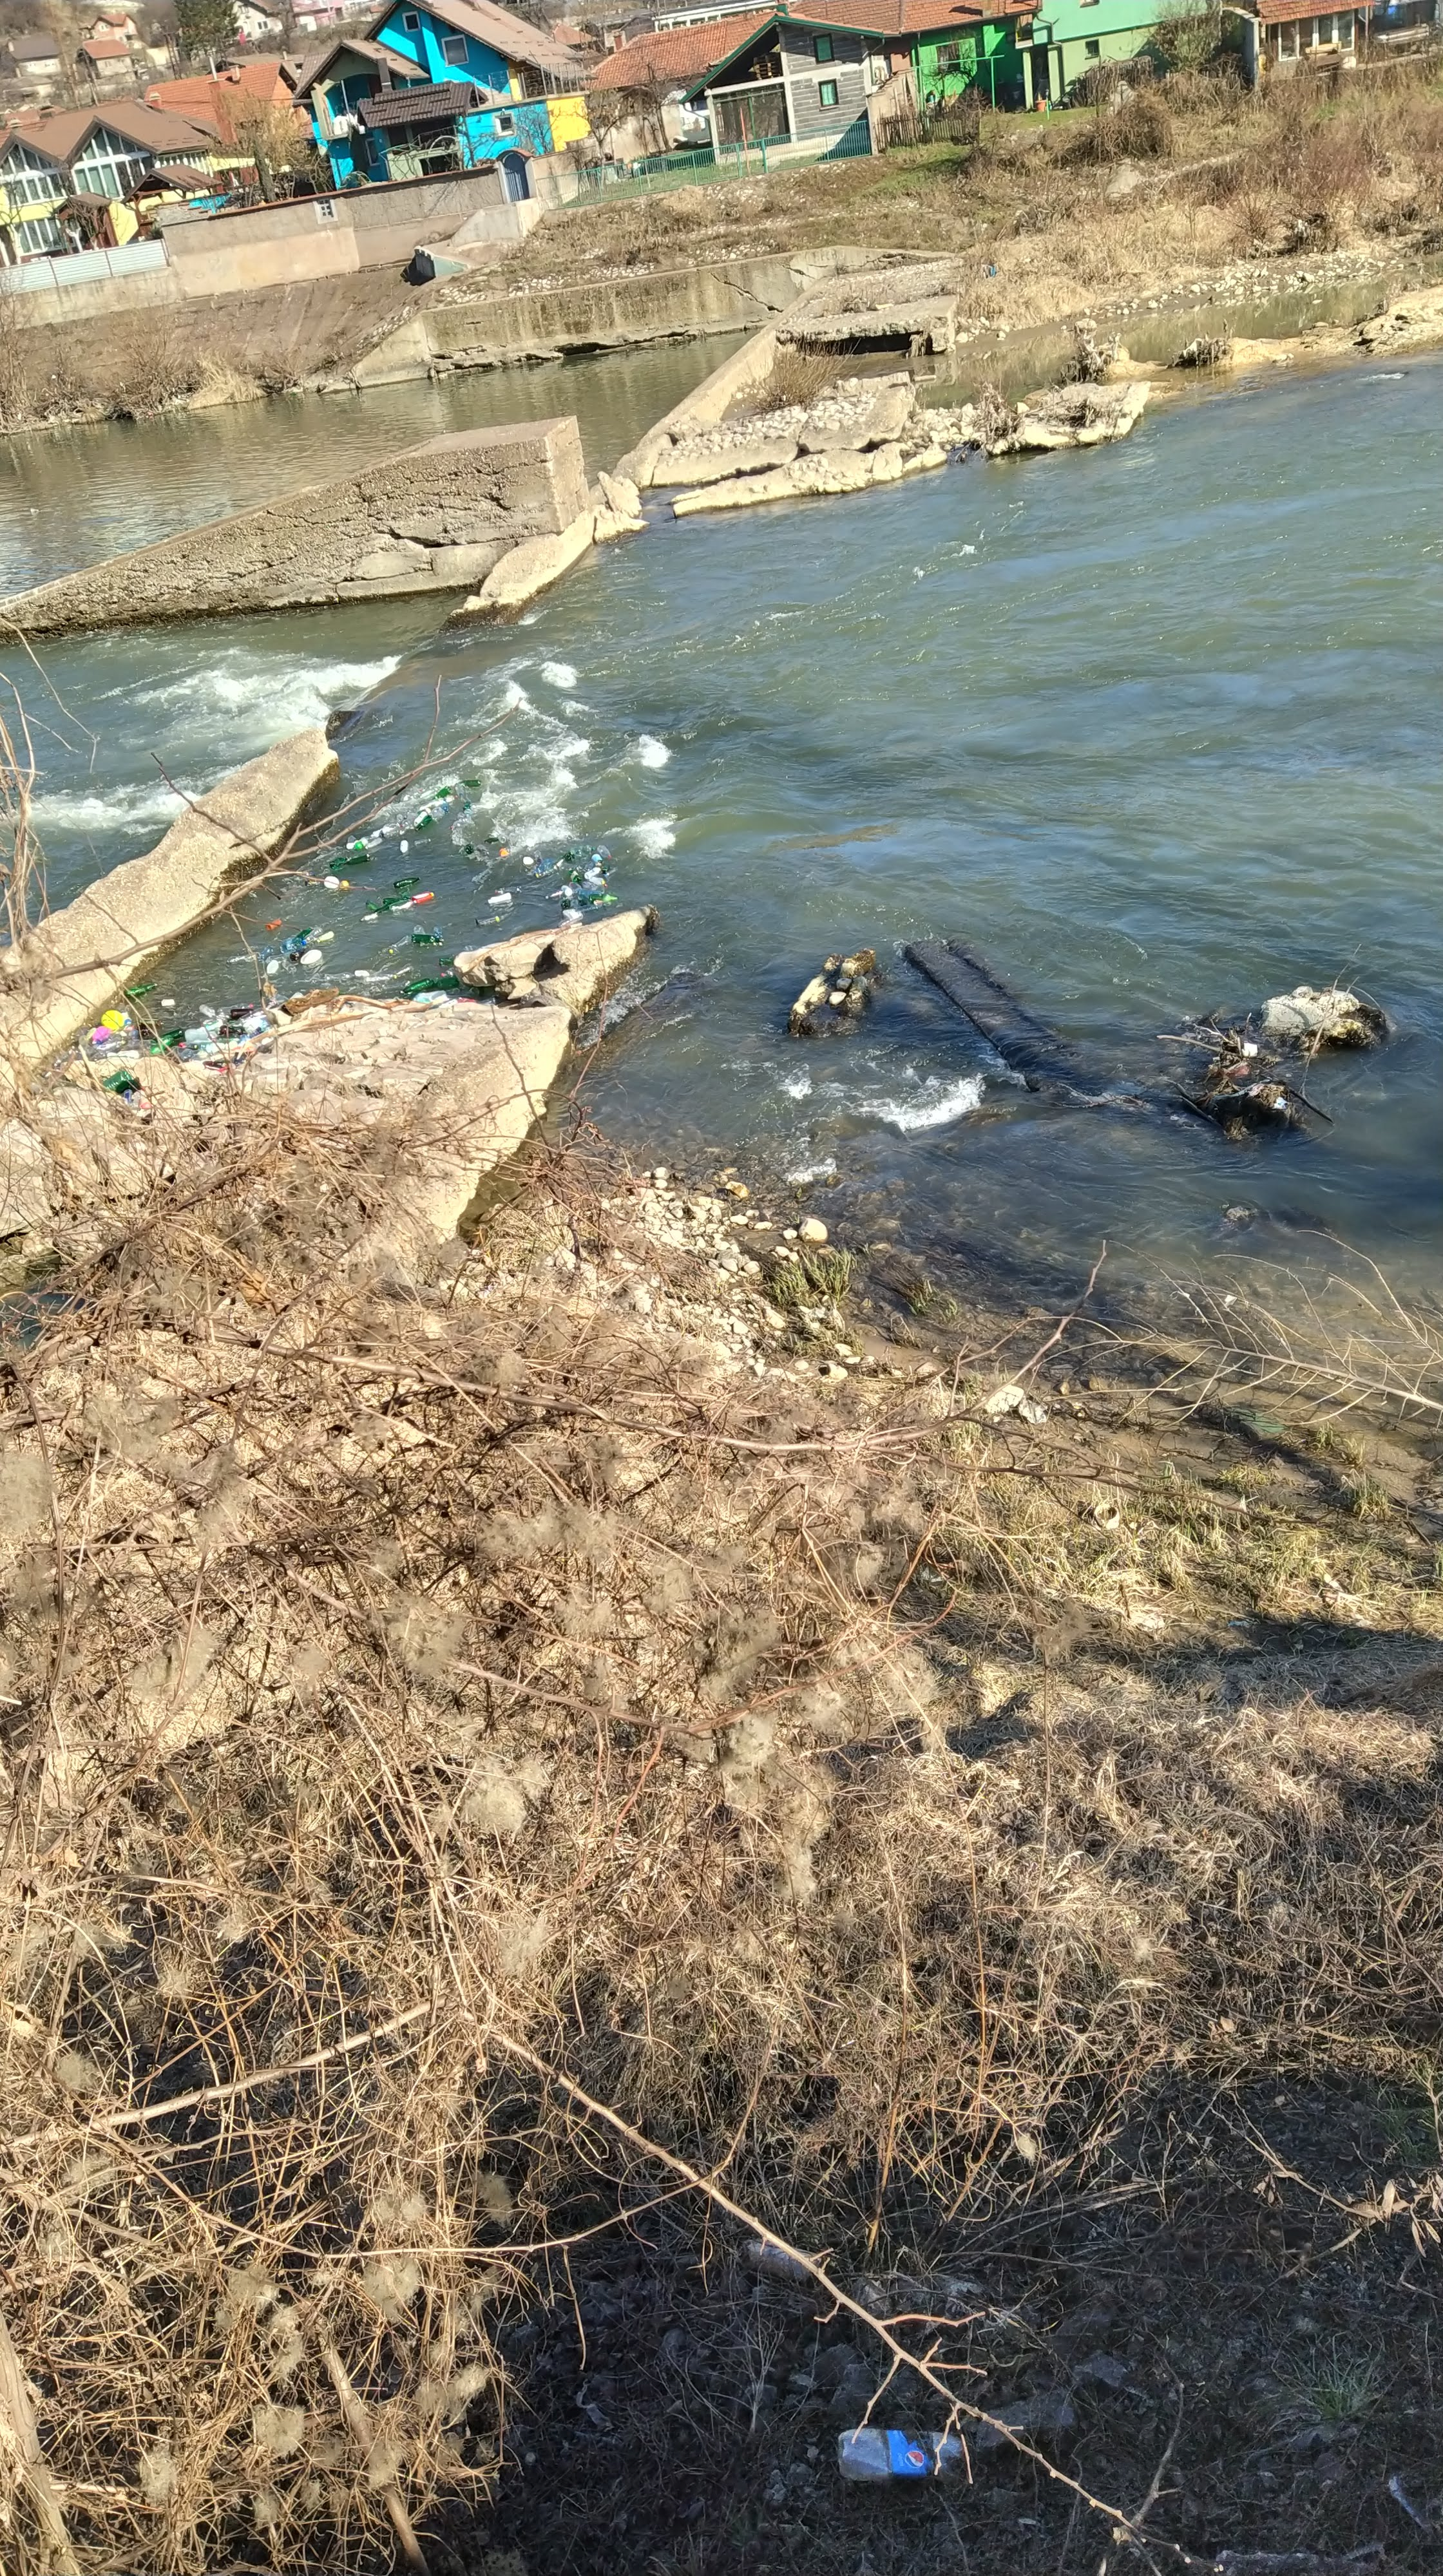Plastic Bottle: (122, 982, 159, 1000), (216, 1003, 253, 1017), (400, 978, 436, 993), (92, 1046, 124, 1060), (388, 934, 411, 954), (558, 911, 583, 929), (150, 1035, 174, 1053), (235, 1008, 264, 1023), (227, 952, 259, 964), (301, 929, 326, 943), (97, 1039, 126, 1051), (365, 973, 395, 984), (381, 980, 411, 991), (414, 989, 444, 1000), (324, 971, 352, 982), (170, 1046, 191, 1060), (395, 964, 413, 980), (414, 816, 432, 832), (579, 888, 606, 899), (127, 1039, 158, 1047), (388, 901, 413, 911), (487, 892, 512, 902), (583, 881, 604, 893), (570, 844, 595, 855), (411, 934, 439, 943), (494, 885, 522, 893), (198, 1003, 216, 1017), (413, 892, 436, 902), (347, 855, 370, 865), (159, 1028, 182, 1039), (184, 1028, 207, 1039), (347, 837, 367, 849), (204, 1017, 223, 1030), (393, 878, 420, 886), (266, 916, 282, 931), (450, 819, 471, 830), (584, 867, 600, 881), (267, 952, 292, 961), (359, 911, 377, 924), (329, 856, 347, 869), (476, 916, 501, 925), (220, 1026, 244, 1035), (436, 977, 459, 985), (590, 895, 618, 902), (568, 881, 583, 895), (568, 869, 583, 883), (436, 786, 451, 798), (136, 1023, 152, 1035), (365, 839, 382, 849), (232, 1008, 253, 1017), (205, 1042, 227, 1051), (577, 904, 598, 913), (259, 945, 271, 959), (282, 961, 296, 973), (294, 929, 308, 941), (432, 807, 444, 821), (597, 846, 611, 858), (216, 1033, 241, 1040), (591, 853, 604, 867), (267, 959, 278, 975), (317, 931, 333, 941), (384, 828, 400, 839), (455, 784, 466, 800), (535, 860, 551, 870), (591, 876, 607, 886), (352, 970, 375, 977), (559, 899, 577, 908), (434, 925, 444, 939), (414, 810, 425, 824), (365, 901, 377, 911), (402, 816, 414, 826), (466, 987, 480, 996), (443, 968, 457, 977), (382, 897, 400, 904), (563, 909, 577, 918), (193, 1054, 211, 1062), (414, 839, 430, 846), (460, 780, 482, 786), (583, 862, 593, 872), (561, 885, 572, 895), (439, 957, 451, 966), (413, 925, 425, 934), (400, 840, 409, 853), (400, 826, 413, 835), (274, 993, 287, 1001), (122, 1012, 131, 1024), (563, 853, 575, 862), (289, 993, 303, 1000), (400, 888, 409, 899), (600, 863, 609, 874), (533, 849, 540, 862), (480, 998, 496, 1003), (379, 904, 388, 913), (498, 833, 506, 842), (499, 847, 508, 856), (526, 837, 535, 846), (129, 1030, 138, 1039), (464, 945, 478, 950), (466, 844, 473, 855), (266, 1001, 276, 1008), (228, 1042, 239, 1049), (485, 839, 498, 844), (354, 842, 363, 849), (462, 803, 469, 810), (443, 803, 448, 812), (30, 510, 39, 511), (289, 393, 296, 395)
